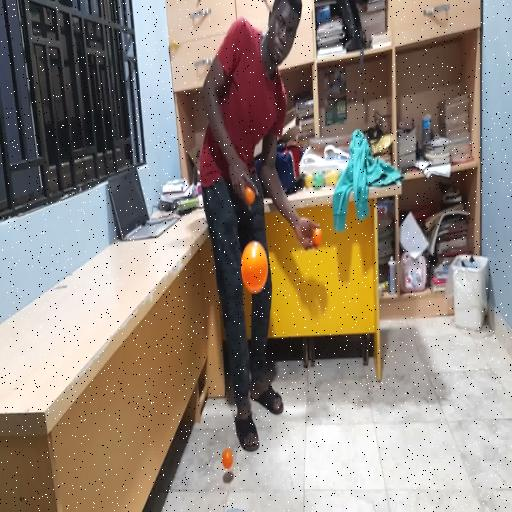plastic-ball: (240, 238, 270, 294)
